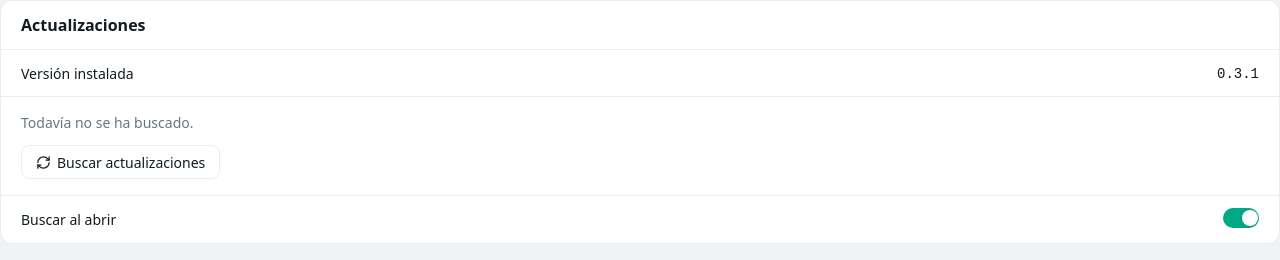
Scenario: UpdatesSection › el interruptor «Buscar al abrir» guarda el ajuste
Click the switch named "Buscar al abrir" at (1241, 218), box [1223,208,1259,228]
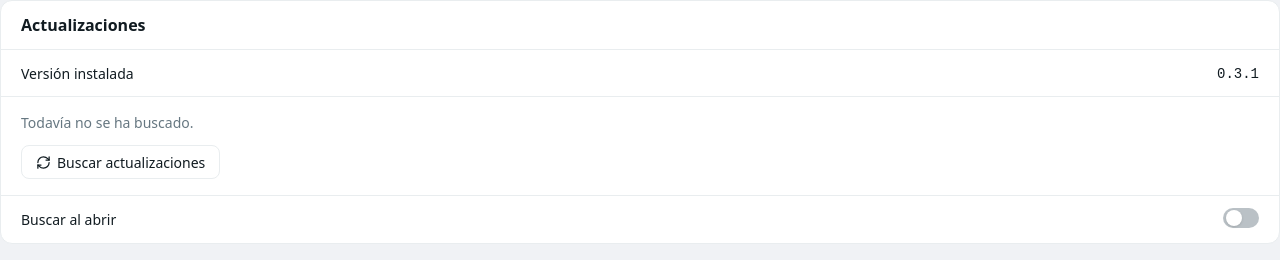
Now the switch named "Buscar al abrir" is not checked, box [1223,208,1259,228]
